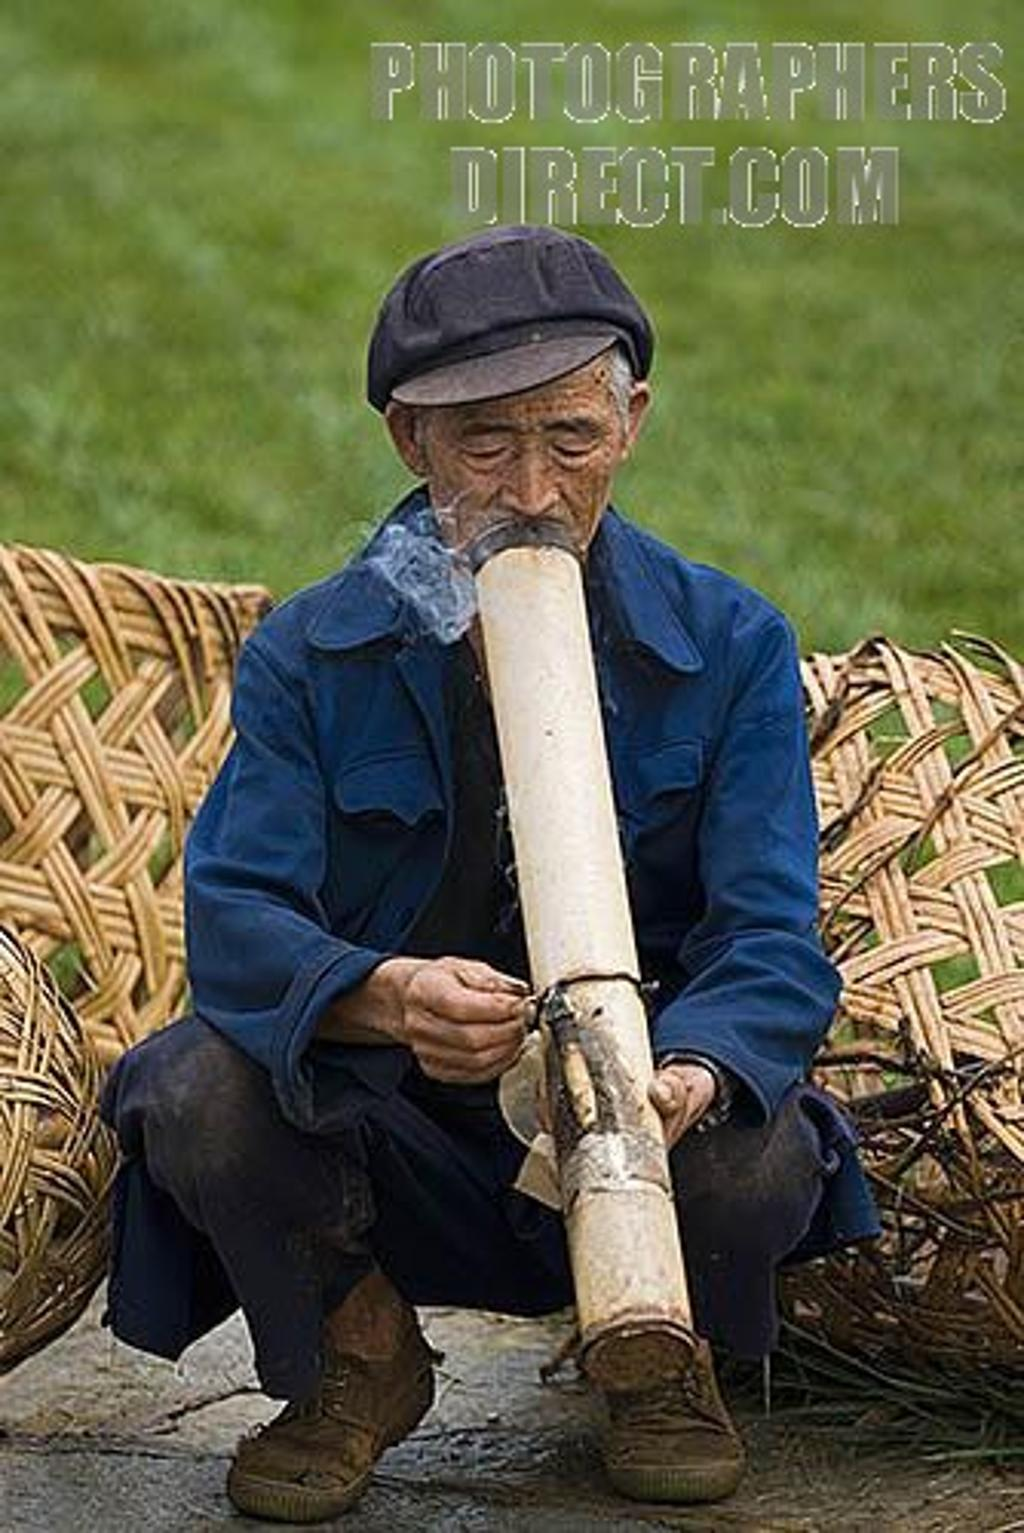face: (440, 323, 614, 563)
